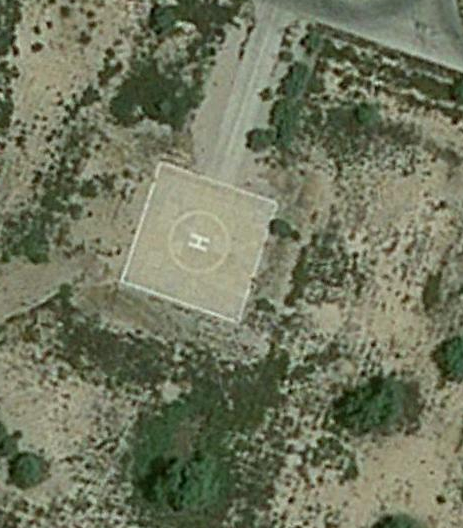heliport: (184, 230, 211, 255)
